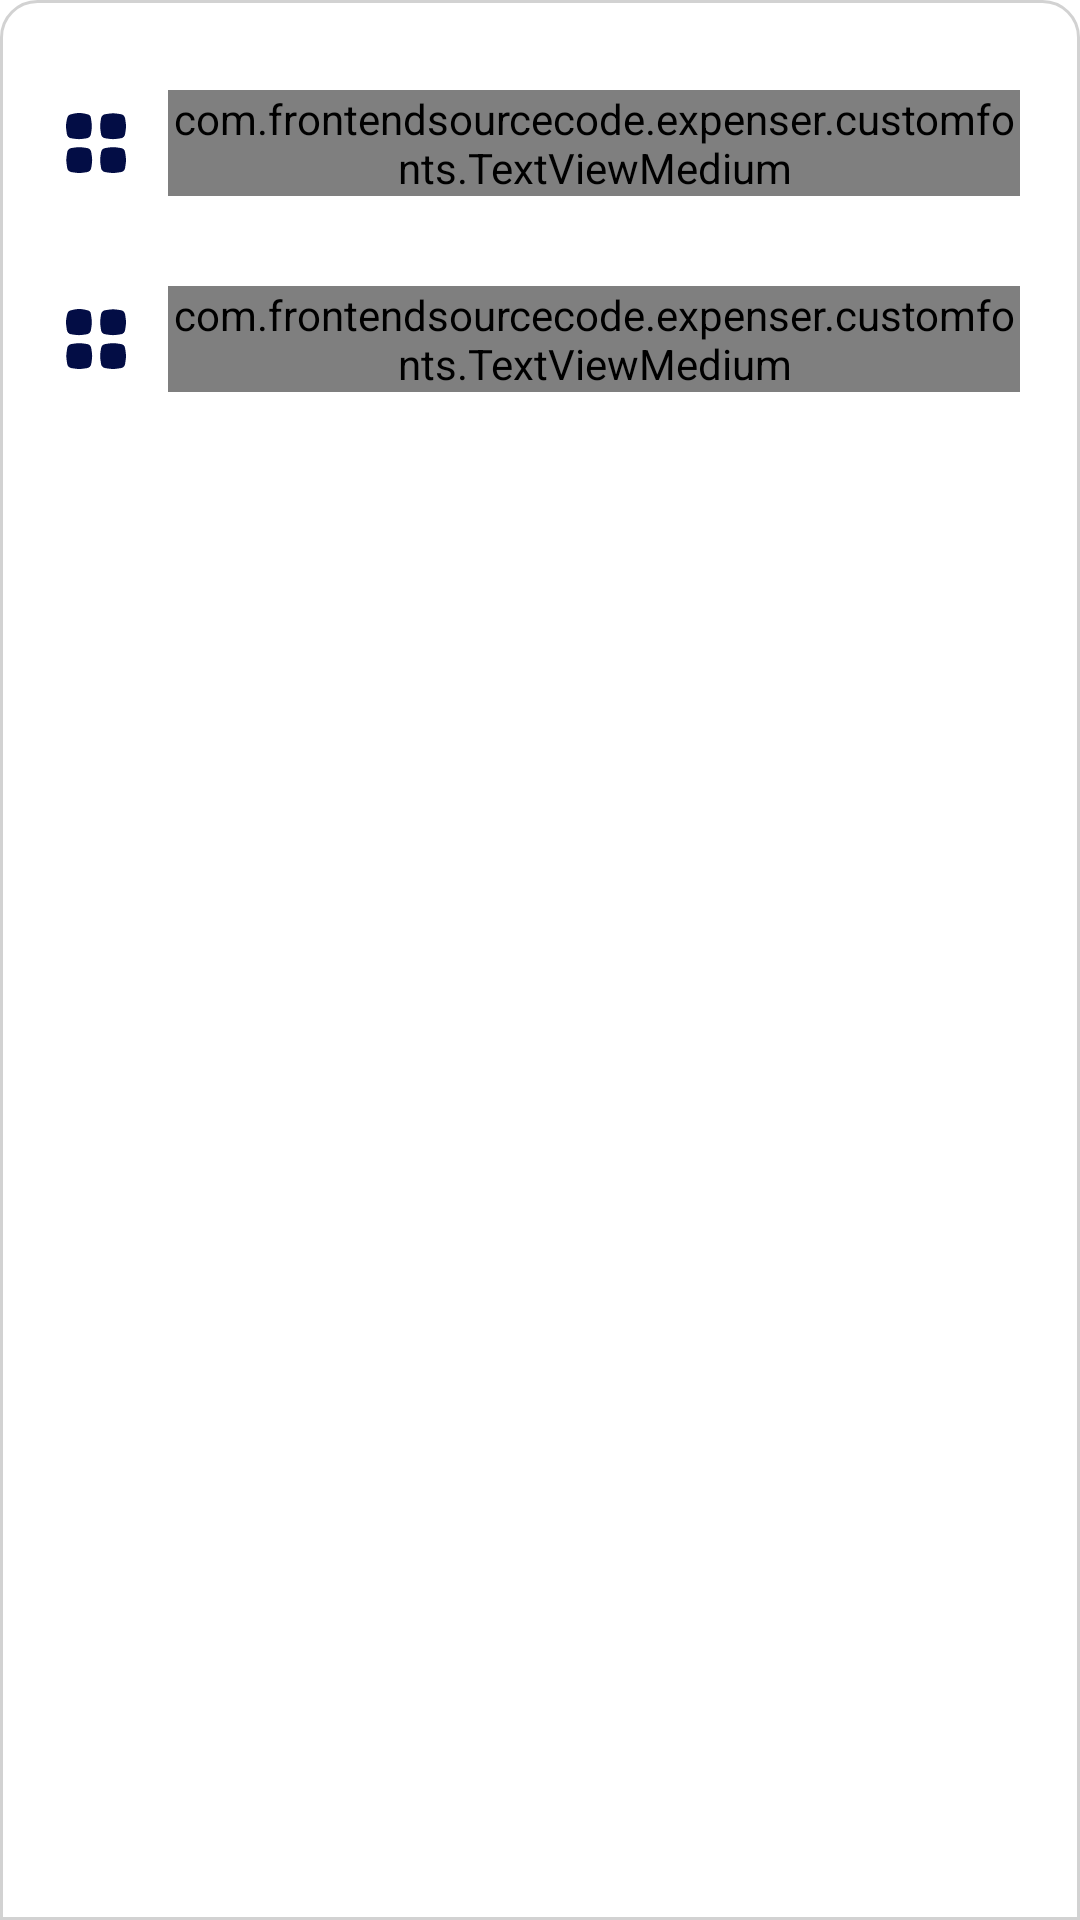

Screen size 1080×1920. Icon name, then its box in pixels as (x1, y1, x2, y2):
category: (66, 113, 126, 173), (66, 309, 126, 369)
